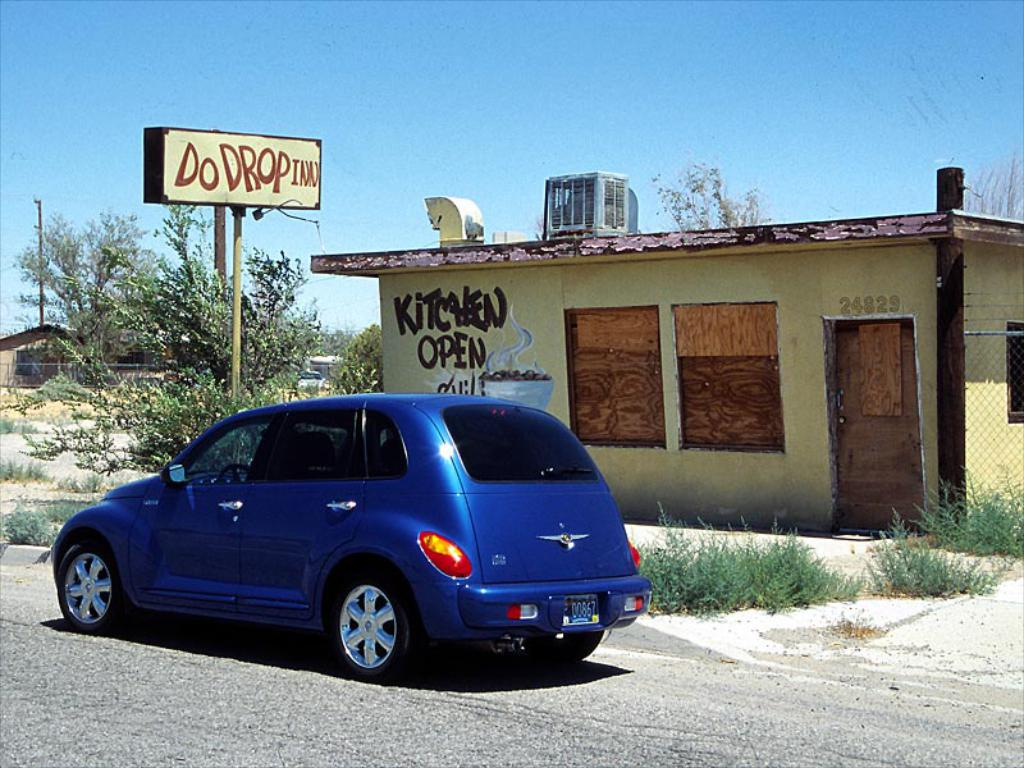cars: (15, 381, 660, 684), (295, 368, 326, 389)
